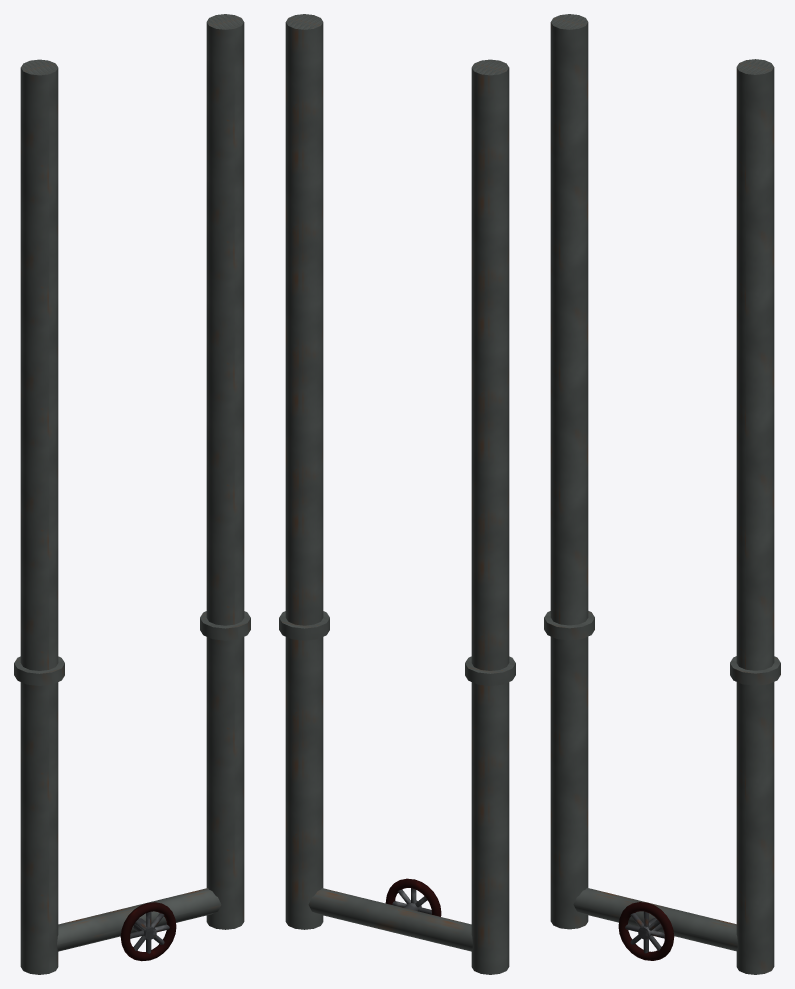
The model's file is pipeRun_v1.glb.
3 views of the same model, side by side, from view 1: azimuth 30°, elevation 25°; view 2: azimuth 150°, elevation 25°; view 3: azimuth 330°, elevation 25° (orthographic).
Visible parts, largest first — view 1: pipeRun_v1; view 2: pipeRun_v1; view 3: pipeRun_v1.
Part boxes in pixels (left/top/right/bottom): pipeRun_v1: left=14, top=14, right=250, bottom=974; pipeRun_v1: left=279, top=14, right=515, bottom=974; pipeRun_v1: left=544, top=14, right=780, bottom=974.
Bounding box in the file's own units: 0.9901 × 3.72 × 0.2351.
Materials: 3 (3 with a texture image).
